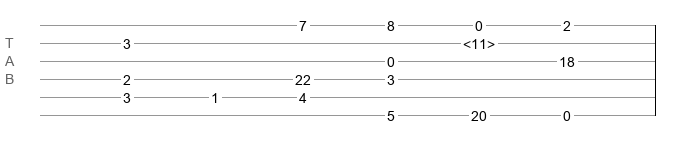0: (387, 54, 395, 64), (475, 18, 483, 28), (563, 108, 571, 118)
1: (211, 90, 219, 100)
18: (559, 54, 575, 64)
2: (123, 72, 131, 82), (563, 18, 571, 28)
20: (471, 108, 487, 118)
22: (295, 72, 311, 82)
3: (123, 36, 131, 46), (123, 90, 131, 100), (387, 72, 395, 82)
4: (299, 90, 307, 100)
5: (387, 108, 395, 118)
7: (299, 18, 307, 28)
8: (387, 18, 395, 28)
harmonic: (463, 36, 495, 46)
